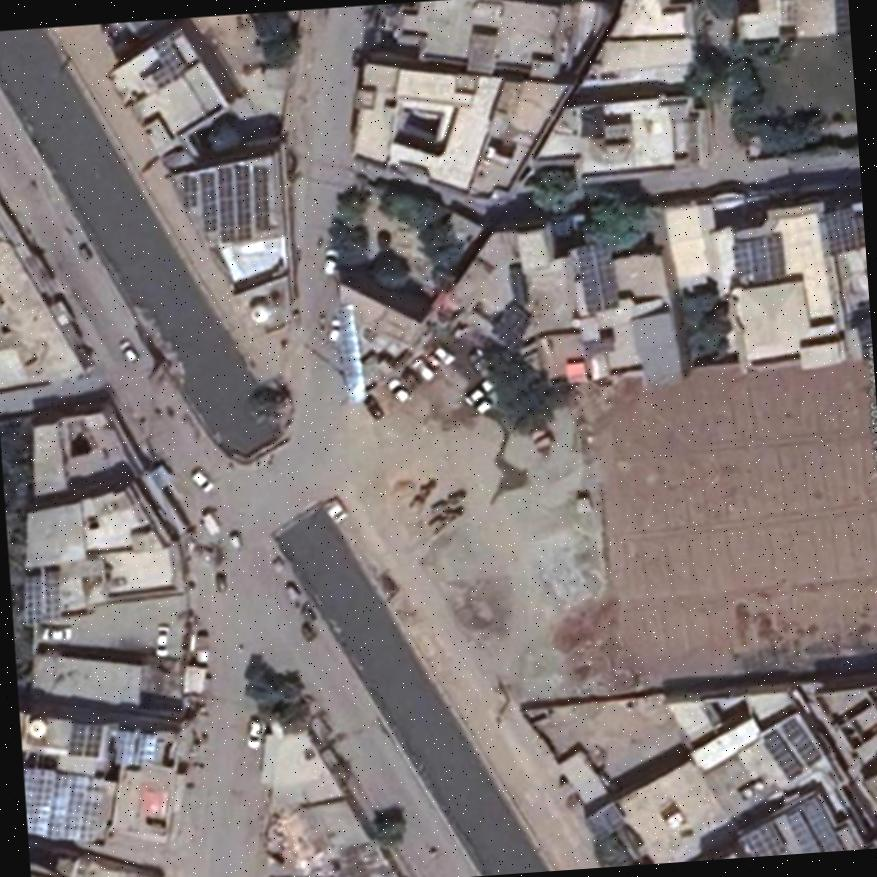Solarpanel: (22, 766, 95, 841), (787, 795, 845, 851), (574, 246, 617, 313), (730, 234, 783, 285), (138, 38, 187, 88), (21, 568, 58, 627), (822, 204, 863, 255), (761, 731, 800, 779), (782, 717, 820, 765), (742, 821, 787, 855), (116, 730, 154, 766), (233, 166, 250, 236), (66, 721, 99, 757), (217, 165, 232, 240), (252, 168, 267, 231), (201, 171, 215, 230), (181, 176, 195, 206)
